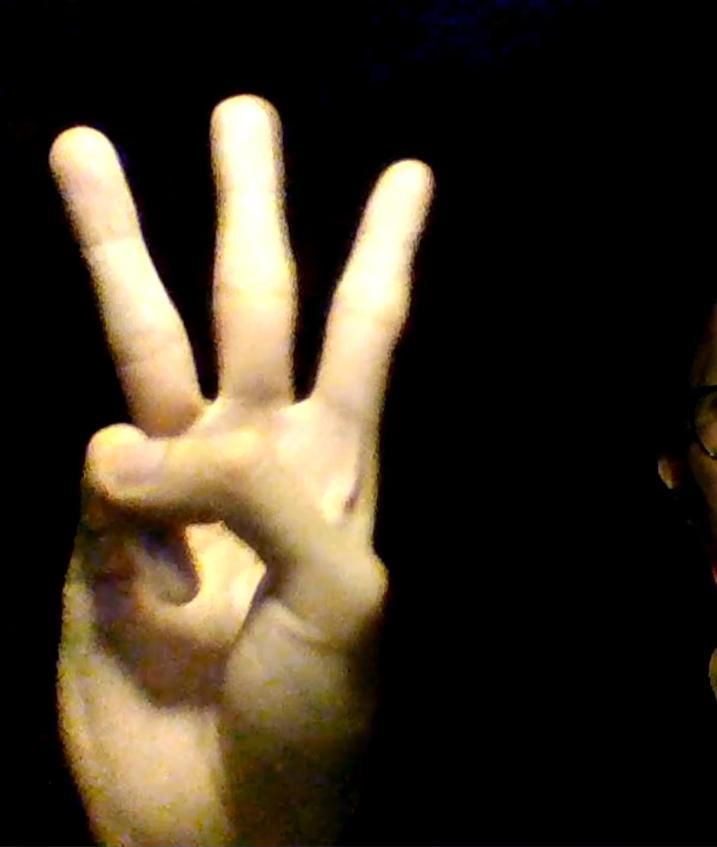w: (46, 94, 436, 847)
